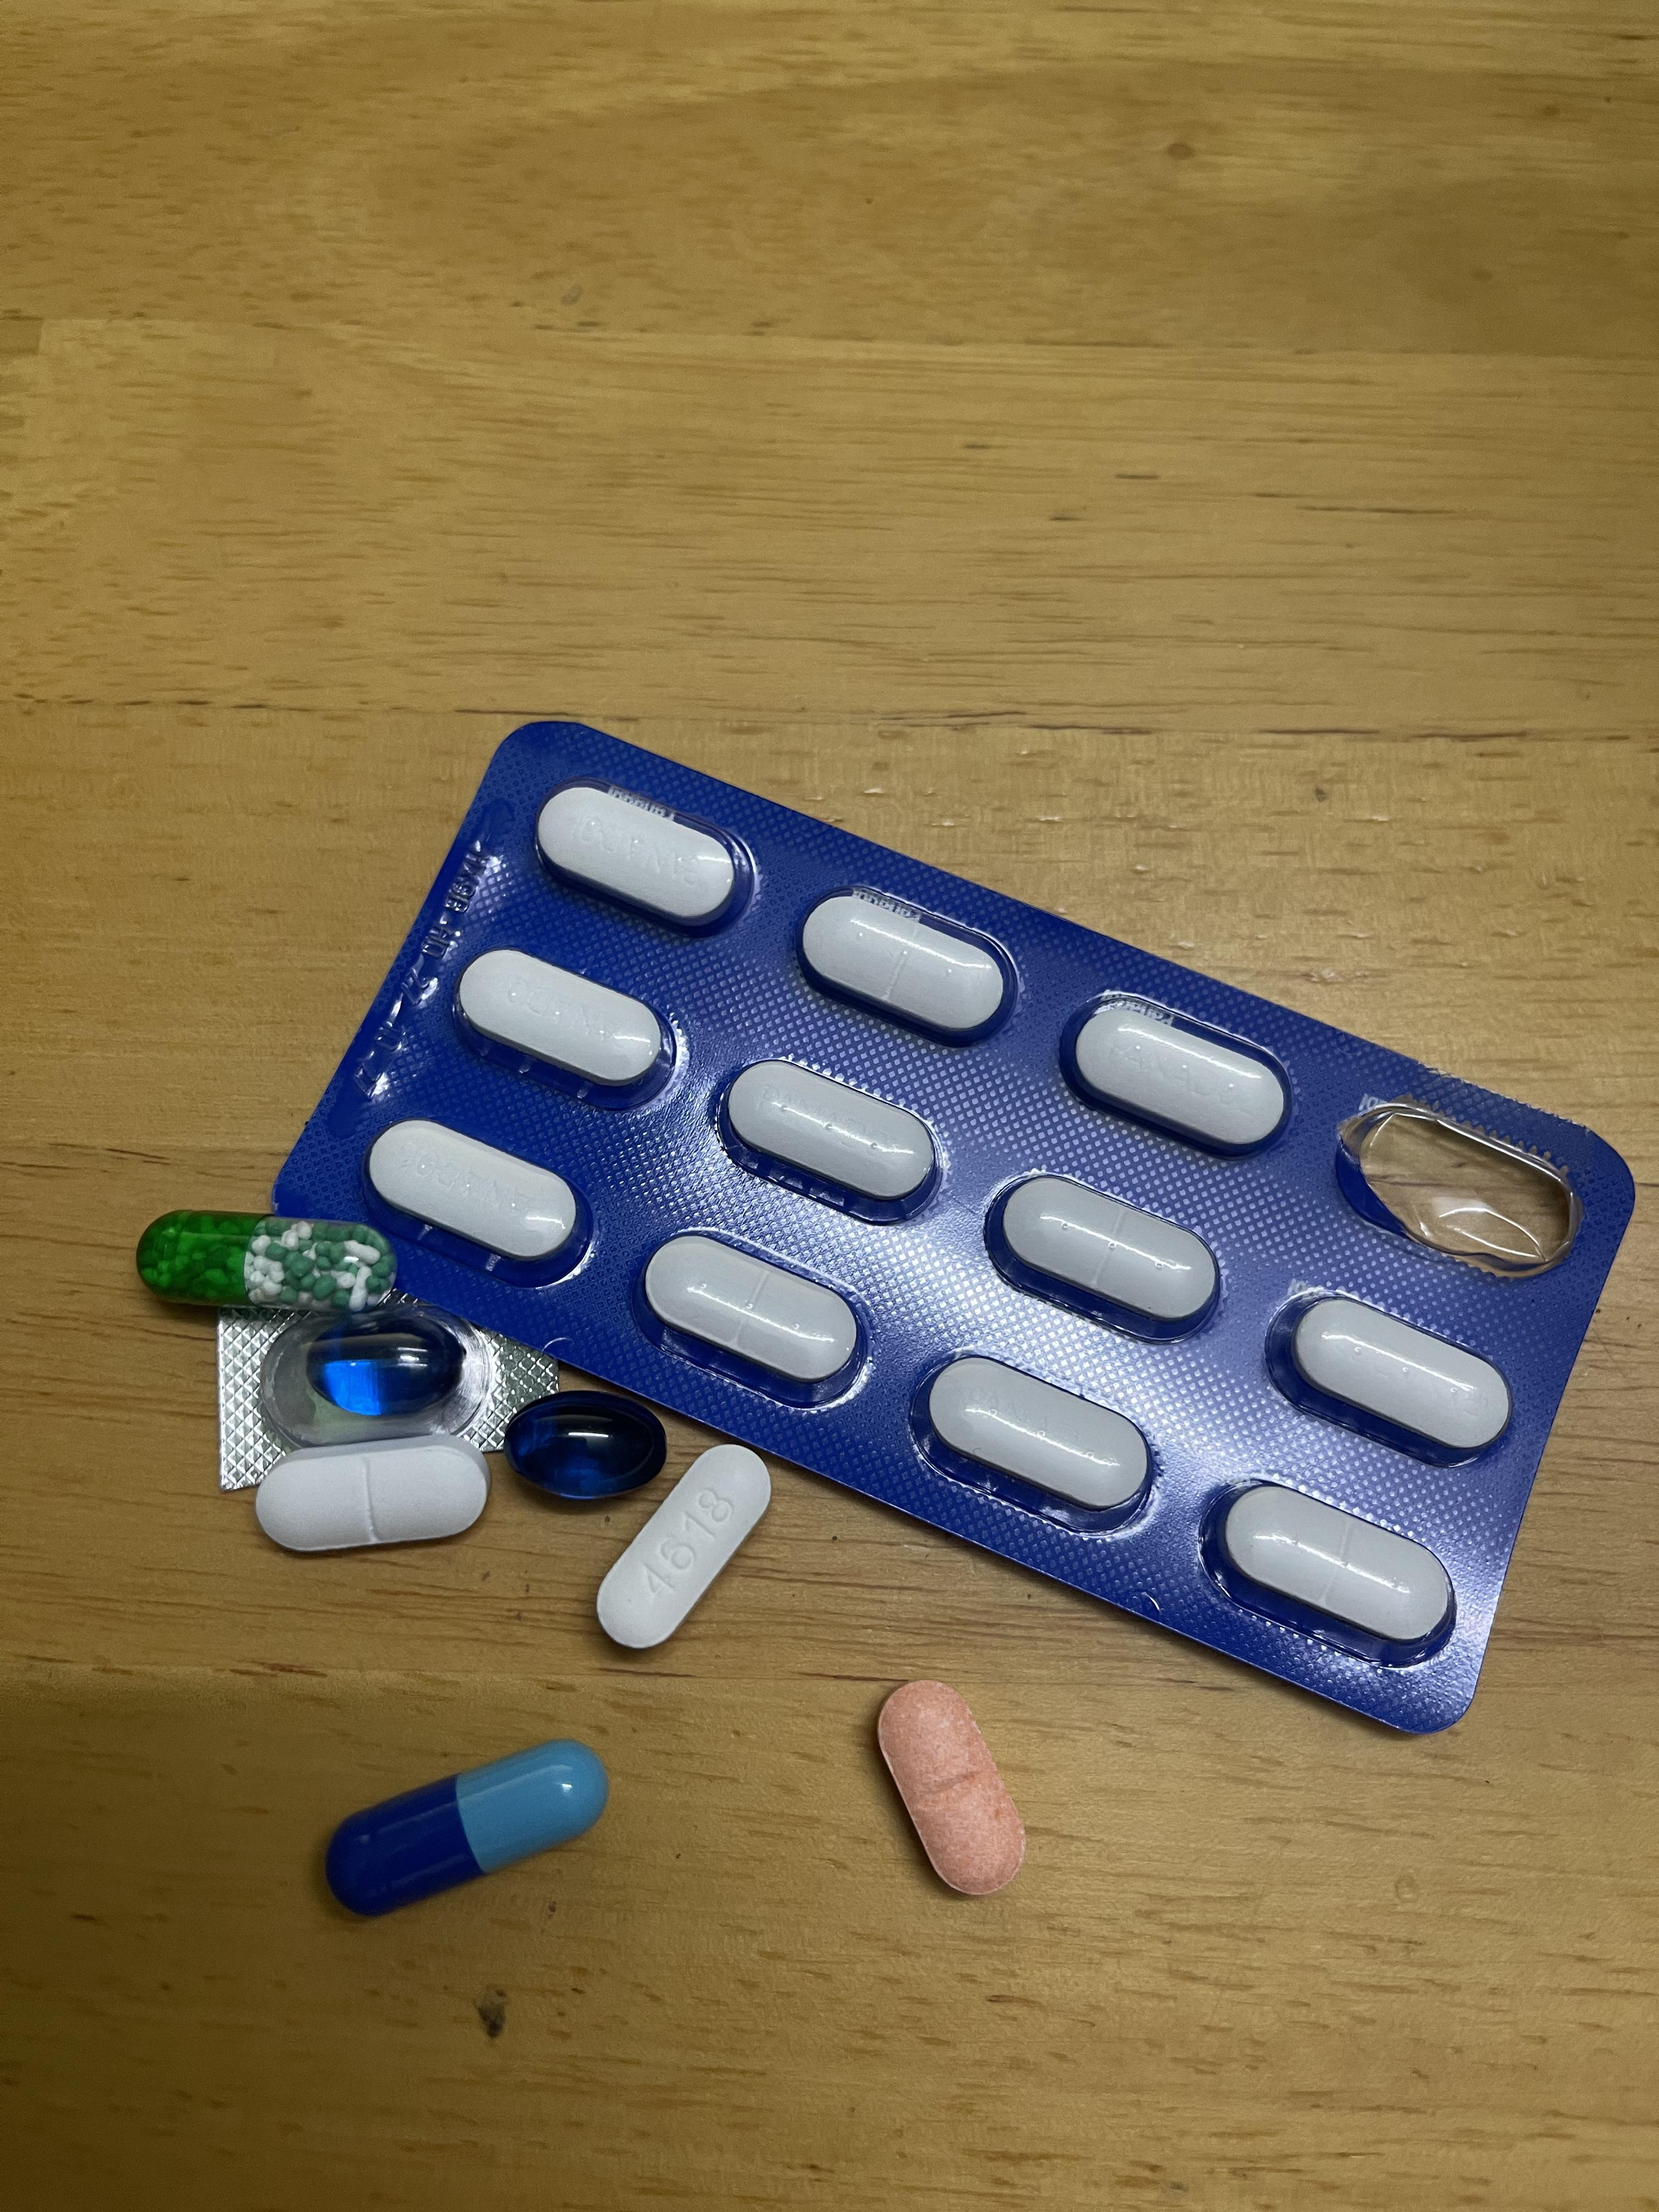Lincomyxin_500mg: (505, 1400, 666, 1501), (315, 1329, 462, 1414)
Loratadine_10mg: (877, 1679, 1025, 1895)
Paracetamol_350mg: (1269, 1291, 1518, 1468), (1215, 1482, 1459, 1658), (988, 1172, 1222, 1339), (917, 1352, 1150, 1519), (640, 1228, 868, 1395), (720, 1057, 948, 1217), (1060, 995, 1286, 1155), (364, 1118, 584, 1280), (798, 887, 1025, 1043), (533, 777, 755, 934), (455, 946, 673, 1099), (254, 1433, 493, 1557)
Paracetamol_500mg: (594, 1442, 772, 1649)
Paracetamol_650mg: (141, 1212, 389, 1308)
pill: (335, 1743, 603, 1916)
